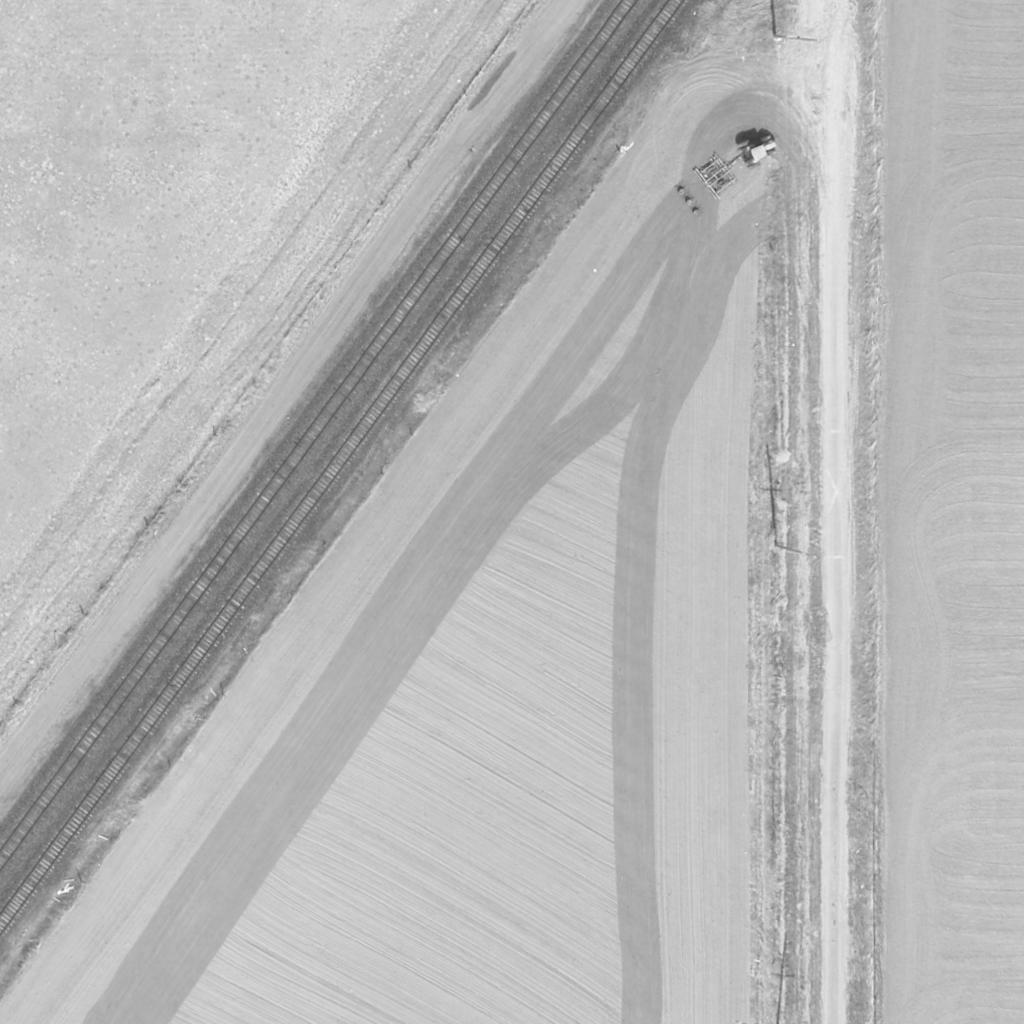vehicle: (740, 133, 780, 171)
